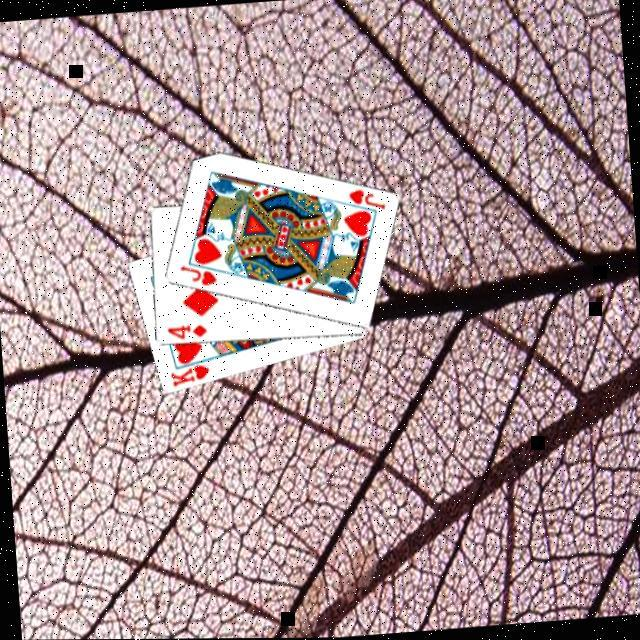4D: (165, 322, 211, 344)
JH: (178, 262, 222, 292), (346, 187, 389, 217)
KH: (168, 363, 215, 392)
